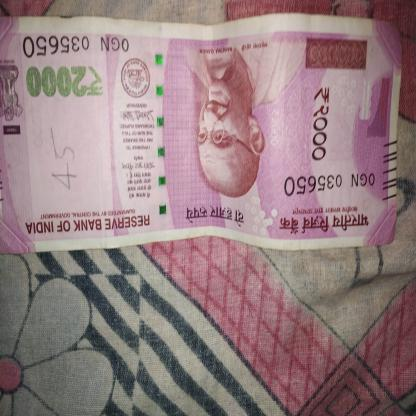New2000Front: (0, 20, 400, 242)
